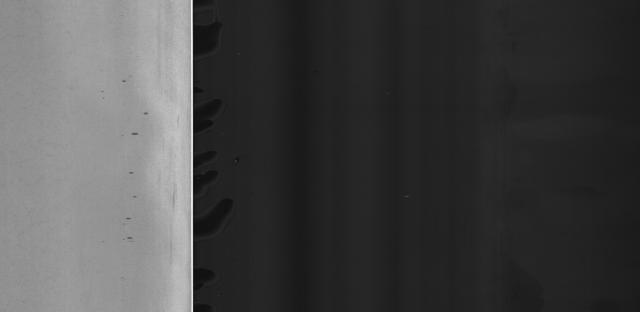oil_spot: (118, 207, 138, 230), (129, 116, 143, 145), (123, 167, 143, 182), (118, 71, 136, 87), (117, 234, 137, 247)
